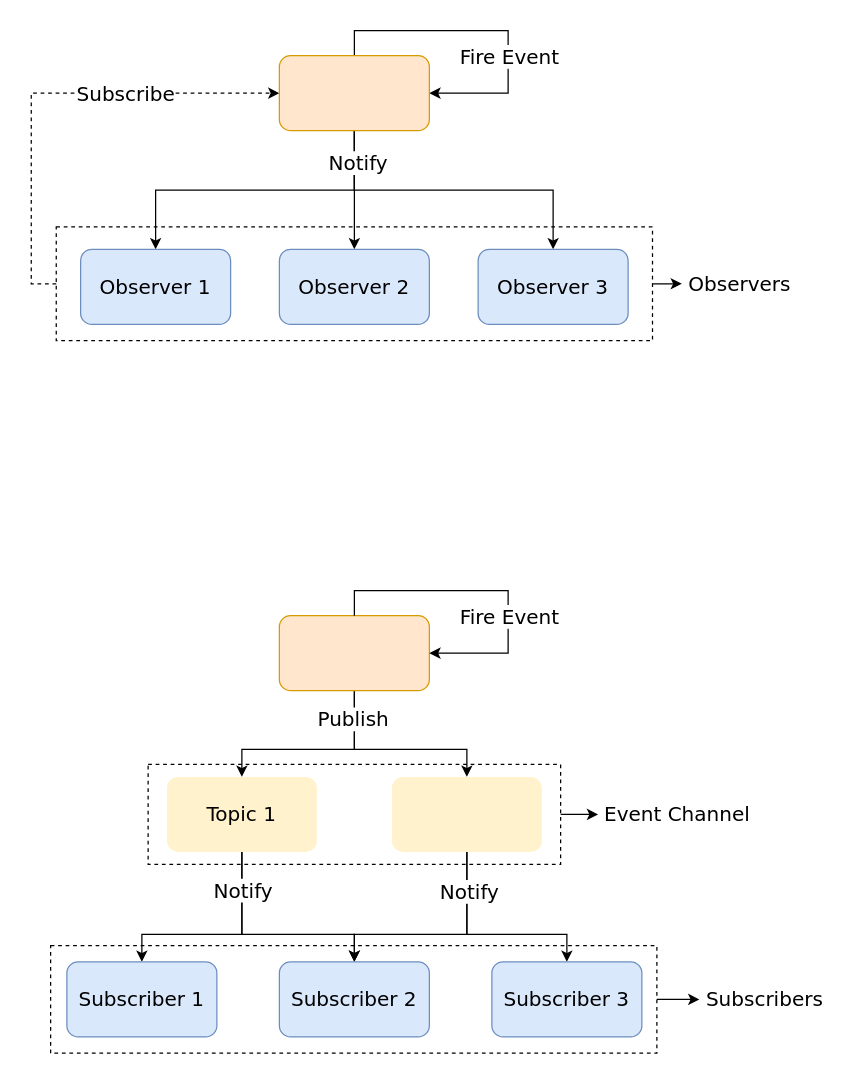
This 850x1075 diagram has some shape labels left out. Here are the shapes that lost their labels. From the top down, the box of each, then its label:
(278, 54, 429, 131): Subject
(278, 614, 429, 691): Publisher
(391, 776, 541, 851): Topic 2
